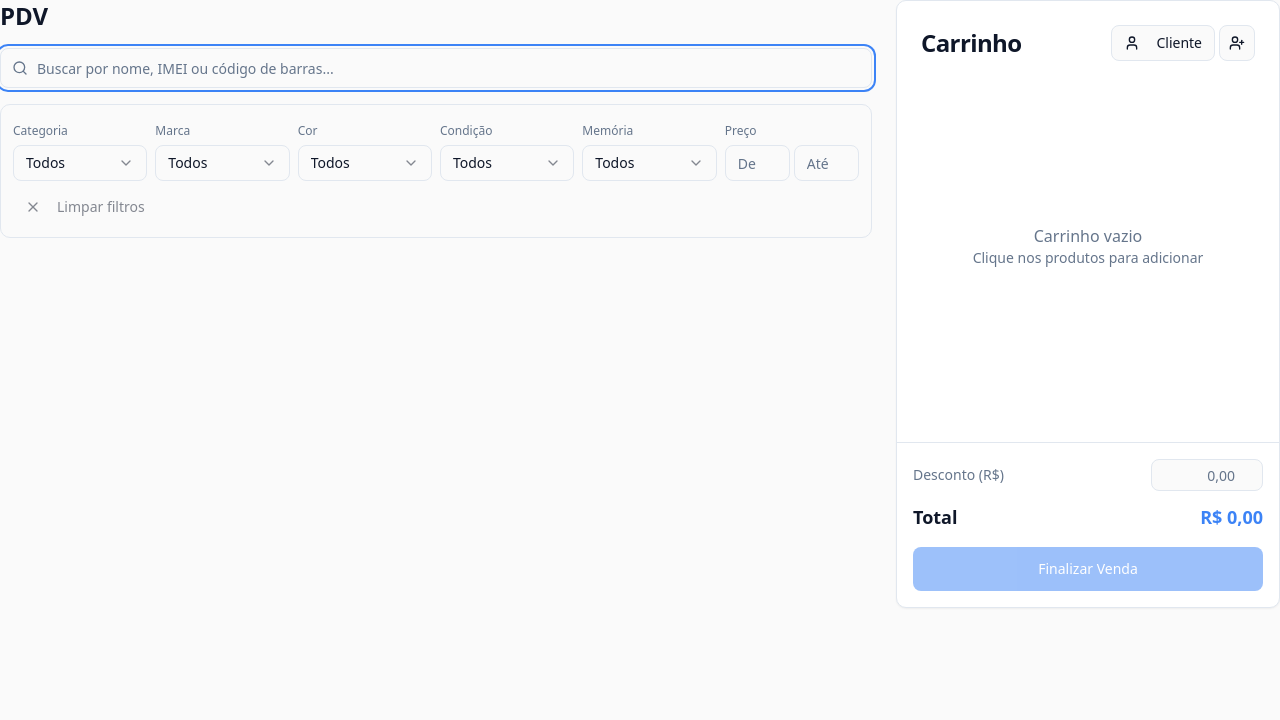
Test case: PDV: a lista de clientes não para no milésimo › acha um cliente depois do milésimo na ordem alfabética
This screenshot has width=1280, height=720.
Click the button "Cliente".
click(1163, 43)  # box [1111,25,1215,61]
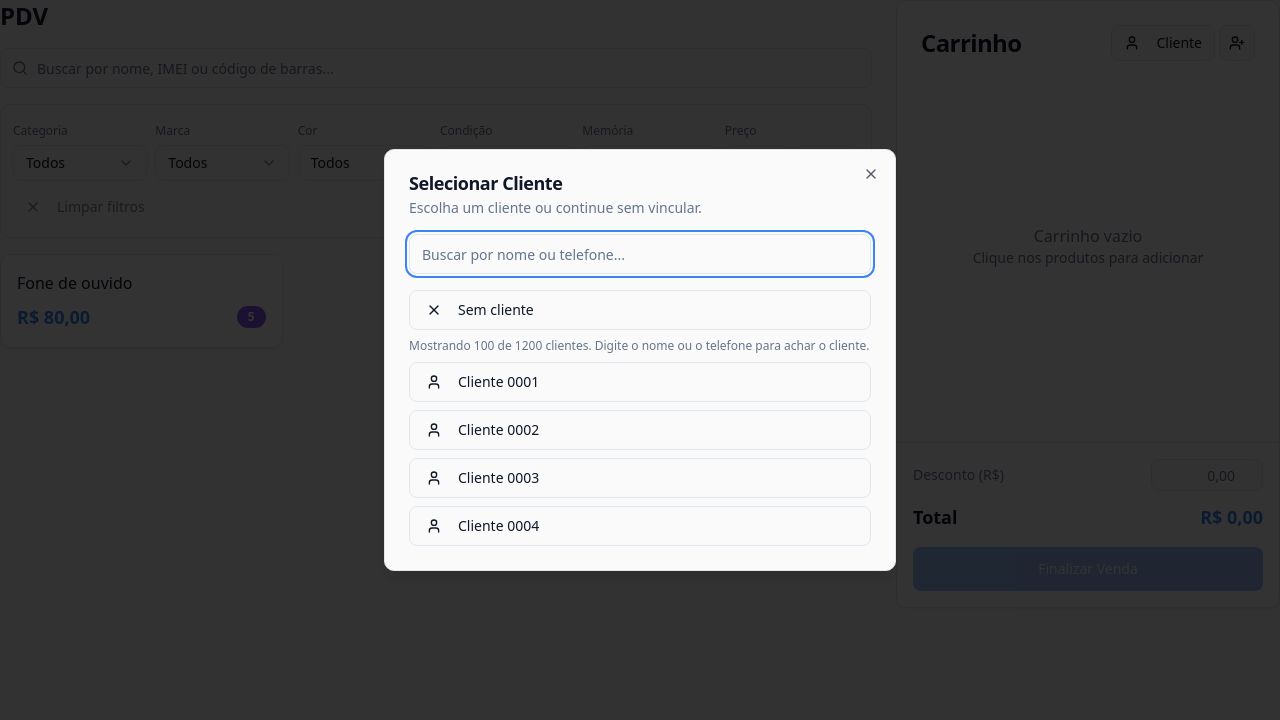
Type "Cliente 1150" into the field with placeholder "Buscar por nome ou telefone...".
click(640, 254); type("Cliente 1150")  # box [409,234,871,274]
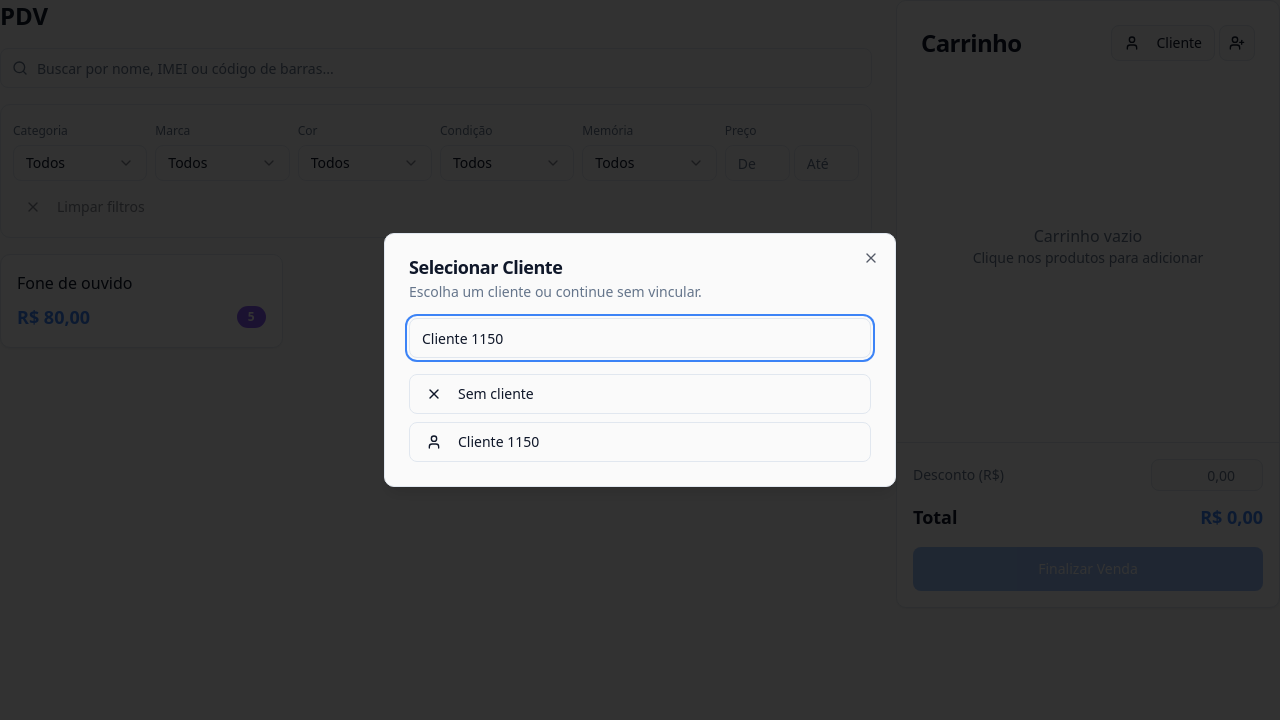
Result: the button "Cliente 1150" is shown at [409,422,871,462]
